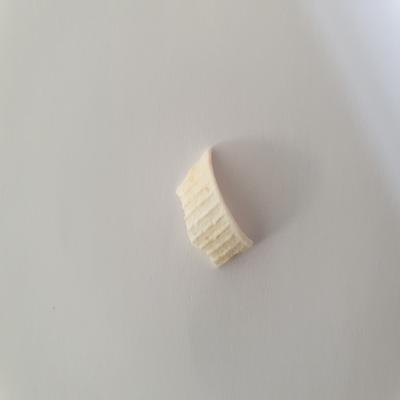plastic: (172, 144, 255, 278)
